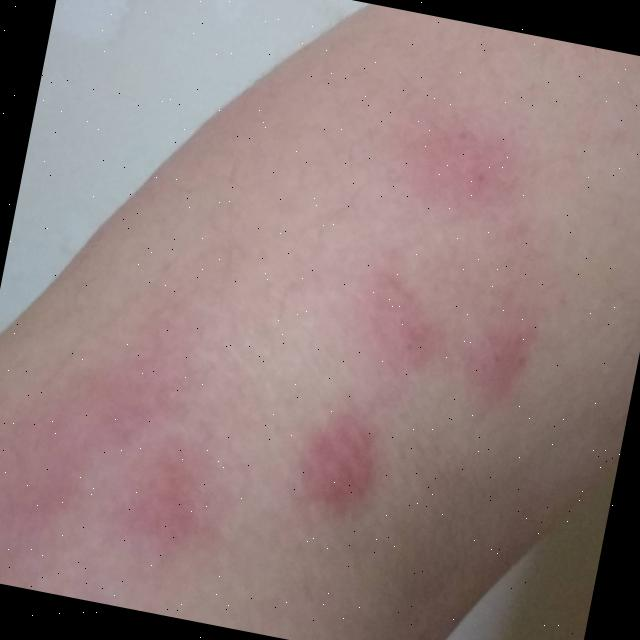kan emici bocekler: (393, 59, 565, 265), (106, 435, 259, 586), (266, 380, 383, 525), (337, 267, 458, 381), (458, 307, 551, 431)
